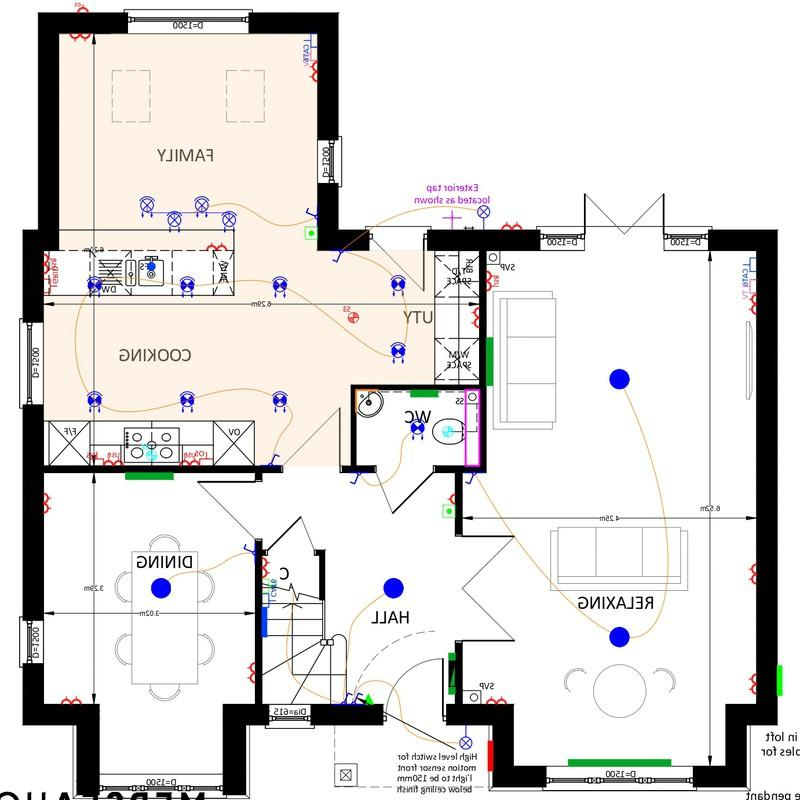BT Entry Point: (363, 691, 375, 705)
Cat 6 Data Socket: (733, 255, 758, 274), (260, 591, 280, 607), (300, 34, 321, 47)
Ceiling Mounted Continuous Extract Fan With Boost Mode Activated By Light Switch: (438, 420, 458, 443)
Ceiling Mounted Continuous Extract Fan With Local Boost Switch: (336, 300, 364, 330)
Co-Ax TV Socket: (738, 278, 757, 296), (298, 47, 319, 62)
Consumer Unit: (443, 654, 459, 695)
Double Socket: (460, 303, 481, 336), (52, 692, 93, 707), (240, 661, 261, 688), (40, 486, 57, 518), (740, 293, 758, 320), (499, 215, 524, 234), (67, 32, 96, 46), (482, 693, 513, 706), (300, 63, 318, 83), (200, 242, 232, 252), (746, 671, 757, 699), (747, 560, 757, 589), (262, 554, 272, 579)
Electric Meter Box: (484, 736, 497, 777)
External Wall Light: (472, 203, 494, 231), (456, 723, 475, 753)
Gas Meter Box: (773, 660, 788, 700)
Grid Switch: (42, 273, 65, 298)
Hob Switch: (86, 451, 105, 466)
Light Switch: (327, 247, 349, 267), (345, 470, 367, 486), (242, 541, 255, 567), (301, 204, 317, 225), (464, 472, 483, 489), (264, 453, 283, 468), (337, 690, 352, 705), (353, 690, 365, 705)
Low Energy Downlighter: (263, 380, 293, 424), (597, 620, 636, 651), (171, 273, 204, 307), (385, 333, 415, 370), (380, 572, 410, 608), (81, 385, 114, 417), (166, 386, 206, 411), (401, 409, 427, 447), (266, 271, 300, 300), (147, 573, 174, 607), (386, 270, 413, 303), (83, 273, 105, 300)
Low Energy Pendant Light: (603, 363, 636, 398)
Outside Socket: (69, 1, 100, 12)
Outside Tap: (439, 205, 467, 230)
Oven Switch: (197, 446, 215, 468)
Programmable Room Thermostat: (300, 224, 317, 246), (435, 505, 456, 521)
Radiator: (557, 754, 679, 769), (483, 334, 500, 395), (117, 468, 179, 484), (438, 649, 457, 699), (401, 387, 447, 402)
Recirculating Extractor Fan: (137, 440, 165, 462)
Single Socket: (440, 491, 456, 506)
Telephone Socket: (261, 576, 282, 593)
Track Light: (125, 189, 247, 233)
USB Double Socket: (483, 268, 505, 299), (41, 250, 67, 272), (177, 450, 201, 466), (105, 450, 125, 466)
Underfloor Heating Manifold: (260, 607, 274, 639)
Water Entry Position: (141, 258, 159, 276)
